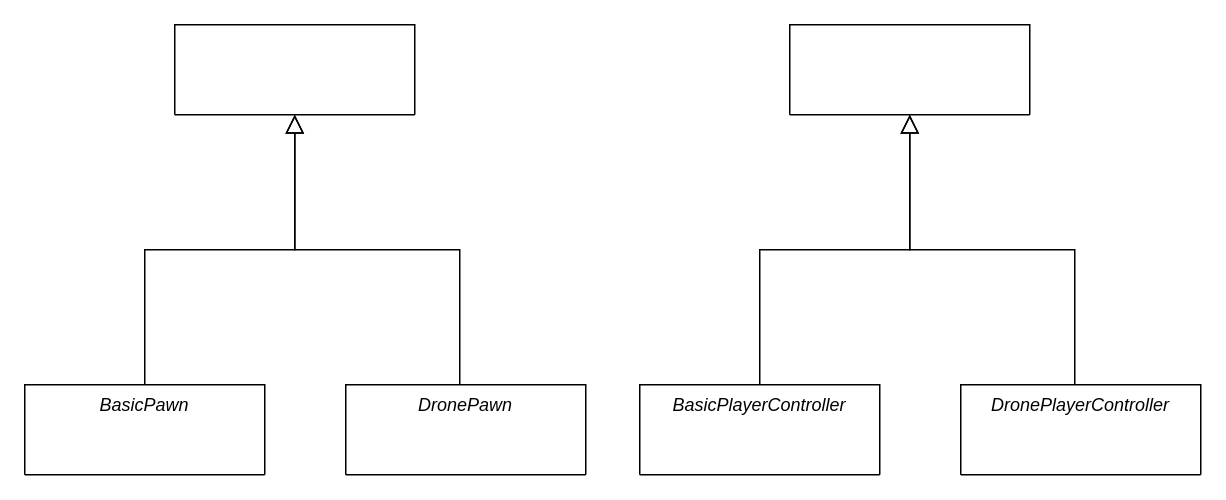
The diagram is 1226 pixels wide and 500 high, and some of its shapes have lost their labels. Each missing label, with the centre of its shape:
BasePawn: the point at 294,69
BasePlayerController: the point at 909,69
